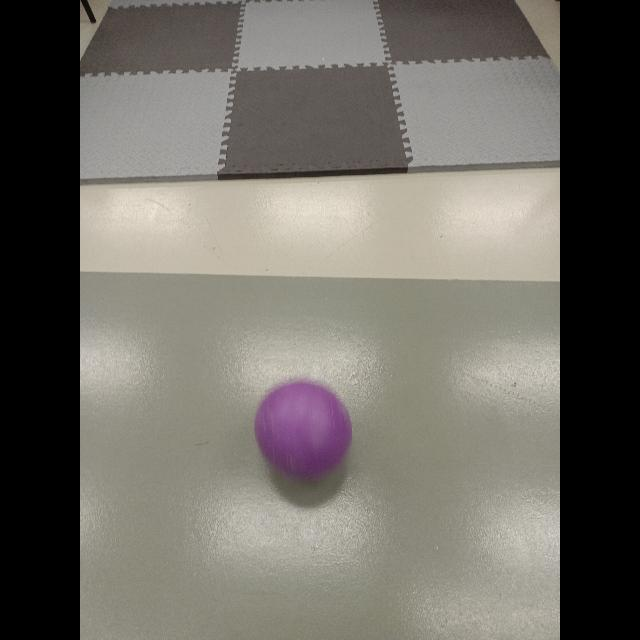P: (256, 374, 352, 480)
